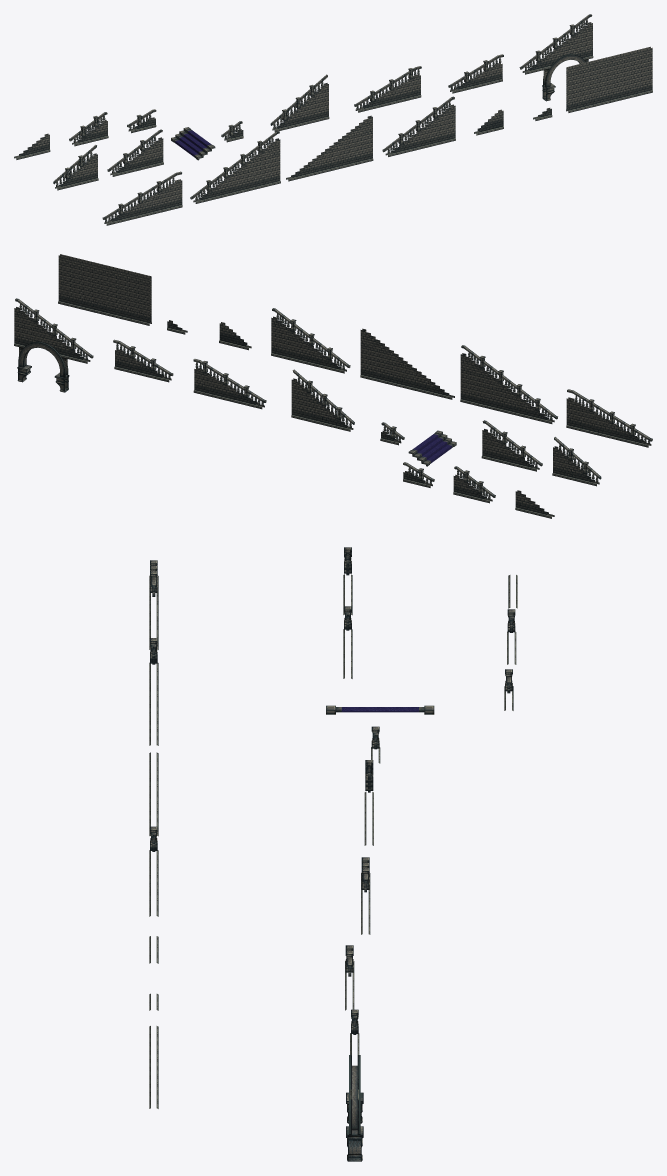
The model's file is EnvMdrMD_Daiseidou_B_Stairs_Handrail_4S.FBX.
The picture shows the model from 3 angles, top to bottom: view 1: azimuth 30°, elevation 25°; view 2: azimuth 150°, elevation 25°; view 3: azimuth 270°, elevation 25°; orthographic projection. The views are drawn at different scales.
Visible parts, largest first — view 1: EnvMdrMD_Daiseidou_B_Stairs_SideWall_20S500H, EnvMdrMD_Daiseidou_B_Stairs_Handrail_20S, EnvMdrMD_Daiseidou_B_Stairs_Handrail_16S_Arch, EnvMdrMD_Daiseidou_B_Stairs_Handrail_20S_SideWall, EnvMdrMD_Daiseidou_B_Stairs_Handrail_16S, EnvMdrMD_Daiseidou_B_Stairs_Handrail_A_12S, EnvMdrMD_Daiseidou_B_Stairs_Handrail_16S_C, EnvMdrMD_Daiseidou_B_Stairs_Handrail_A_10S, EnvMdrMD_Daiseidou_B_Stairs_Handrail_12S, EnvMdrMD_Daiseidou_B_Stairs_Handrail_12S_C, EnvMdrMD_Daiseidou_B_Stairs_Handrail_A_8S, EnvMdrMD_Daiseidou_B_Stairs_Library_A (+4 smaller); view 2: EnvMdrMD_Daiseidou_B_Stairs_SideWall_20S500H, EnvMdrMD_Daiseidou_B_Stairs_Handrail_20S, EnvMdrMD_Daiseidou_B_Stairs_Handrail_16S_Arch, EnvMdrMD_Daiseidou_B_Stairs_Handrail_20S_SideWall, EnvMdrMD_Daiseidou_B_Stairs_Handrail_16S, EnvMdrMD_Daiseidou_B_Stairs_Handrail_A_12S, EnvMdrMD_Daiseidou_B_Stairs_Handrail_16S_C, EnvMdrMD_Daiseidou_B_Stairs_Handrail_A_10S, EnvMdrMD_Daiseidou_B_Stairs_Handrail_12S, EnvMdrMD_Daiseidou_B_Stairs_Handrail_12S_C, EnvMdrMD_Daiseidou_B_Stairs_Handrail_A_8S, EnvMdrMD_Daiseidou_B_Stairs_Library_A (+4 smaller); view 3: EnvMdrMD_Daiseidou_B_Stairs_Handrail_16S_Arch.
Part boxes in pixels (x1,y1,x2,y2): EnvMdrMD_Daiseidou_B_Stairs_SideWall_20S500H: (566, 46, 652, 112); EnvMdrMD_Daiseidou_B_Stairs_Handrail_20S: (190, 131, 280, 203); EnvMdrMD_Daiseidou_B_Stairs_Handrail_16S_Arch: (519, 14, 593, 101); EnvMdrMD_Daiseidou_B_Stairs_Handrail_20S_SideWall: (286, 115, 373, 181); EnvMdrMD_Daiseidou_B_Stairs_Handrail_16S: (382, 96, 455, 156); EnvMdrMD_Daiseidou_B_Stairs_Handrail_A_12S: (102, 171, 182, 225); EnvMdrMD_Daiseidou_B_Stairs_Handrail_16S_C: (270, 74, 329, 131); EnvMdrMD_Daiseidou_B_Stairs_Handrail_A_10S: (354, 66, 421, 112); EnvMdrMD_Daiseidou_B_Stairs_Handrail_12S: (107, 129, 163, 176); EnvMdrMD_Daiseidou_B_Stairs_Handrail_12S_C: (53, 145, 98, 190); EnvMdrMD_Daiseidou_B_Stairs_Handrail_A_8S: (448, 54, 503, 93); EnvMdrMD_Daiseidou_B_Stairs_Library_A: (171, 127, 215, 160); EnvMdrMD_Daiseidou_B_Stairs_SideWall_20S500H: (58, 254, 151, 325); EnvMdrMD_Daiseidou_B_Stairs_Handrail_20S: (460, 345, 557, 423); EnvMdrMD_Daiseidou_B_Stairs_Handrail_16S_Arch: (14, 298, 93, 392); EnvMdrMD_Daiseidou_B_Stairs_Handrail_20S_SideWall: (360, 328, 454, 399); EnvMdrMD_Daiseidou_B_Stairs_Handrail_16S: (271, 308, 350, 373); EnvMdrMD_Daiseidou_B_Stairs_Handrail_A_12S: (566, 389, 652, 447); EnvMdrMD_Daiseidou_B_Stairs_Handrail_16S_C: (291, 369, 354, 431); EnvMdrMD_Daiseidou_B_Stairs_Handrail_A_10S: (193, 359, 266, 409); EnvMdrMD_Daiseidou_B_Stairs_Handrail_12S: (481, 420, 542, 471); EnvMdrMD_Daiseidou_B_Stairs_Handrail_12S_C: (552, 437, 601, 486); EnvMdrMD_Daiseidou_B_Stairs_Handrail_A_8S: (113, 339, 173, 382); EnvMdrMD_Daiseidou_B_Stairs_Library_A: (408, 430, 456, 466); EnvMdrMD_Daiseidou_B_Stairs_Handrail_16S_Arch: (346, 1009, 363, 1161).
Size of the model in its own units: 6450 by 925 by 1874.
2 materials, 2 textured.
